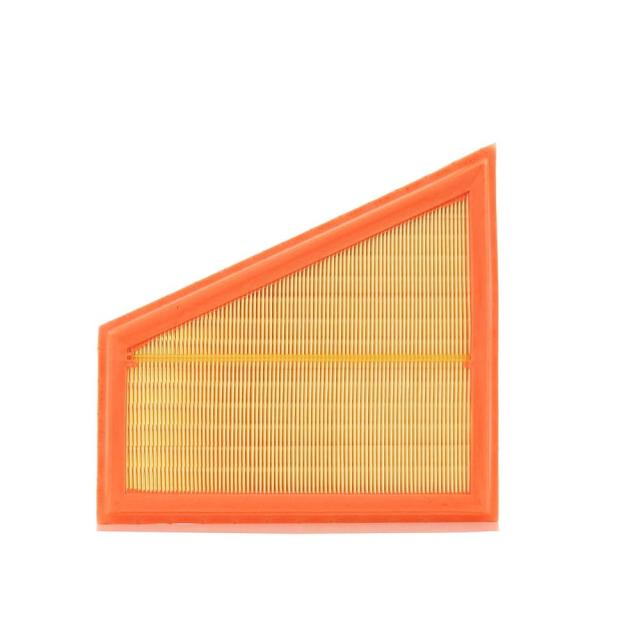air_filter: (87, 133, 502, 538)
